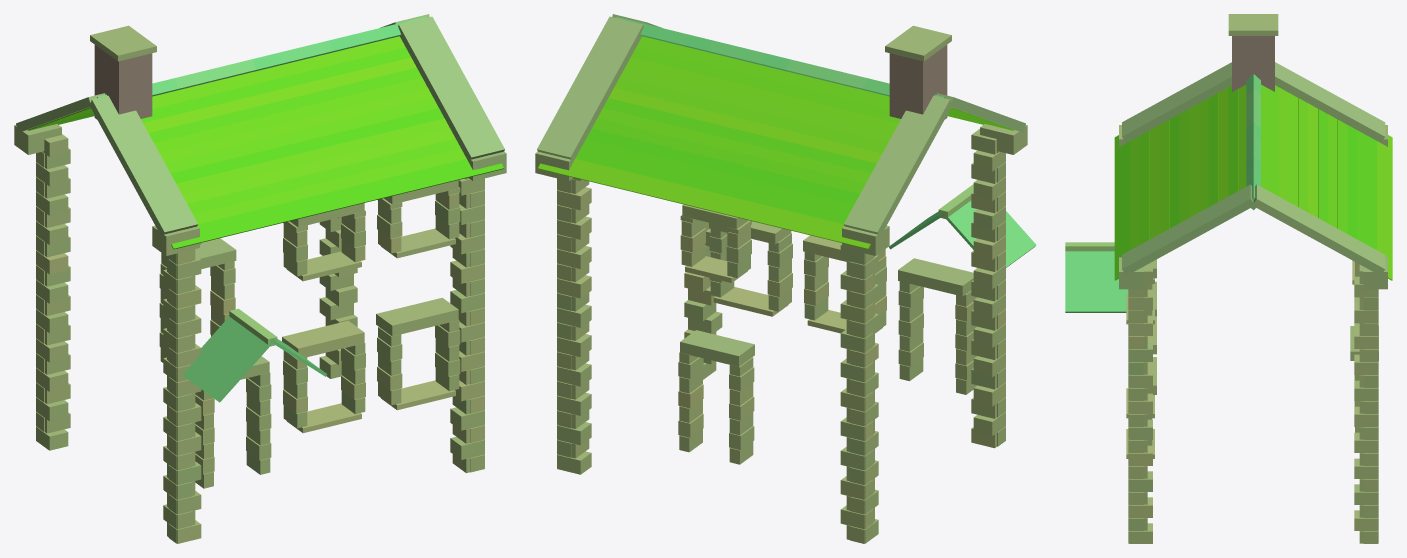
The model's file is SM_Bld_240_Stone.glb.
The picture shows the model from 3 angles, left to right: view 1: azimuth 30°, elevation 25°; view 2: azimuth 150°, elevation 25°; view 3: azimuth 270°, elevation 25°; orthographic projection. The views are drawn at different scales.
Visible parts, largest first — view 1: SM_Bld_240_Stone; view 2: SM_Bld_240_Stone; view 3: SM_Bld_240_Stone.
Part boxes in pixels (left/top/right/bottom): SM_Bld_240_Stone: left=14, top=14, right=506, bottom=543; SM_Bld_240_Stone: left=535, top=14, right=1036, bottom=543; SM_Bld_240_Stone: left=1065, top=14, right=1392, bottom=543.
Bounding box in the file's own units: 7.28 × 9.14 × 6.85.
